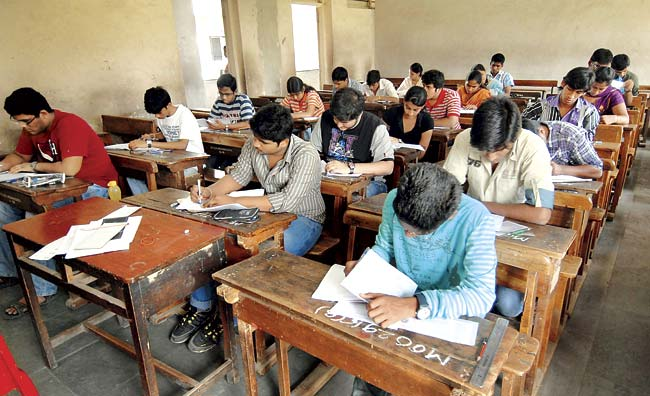student: (318, 155, 503, 335), (174, 96, 308, 220), (1, 64, 104, 185), (440, 89, 550, 182), (101, 72, 199, 165), (310, 86, 393, 175), (539, 65, 610, 126), (388, 76, 441, 157), (269, 68, 332, 128), (475, 42, 519, 94), (358, 63, 401, 103)
studentcopying: (200, 68, 269, 147), (414, 71, 470, 135)
